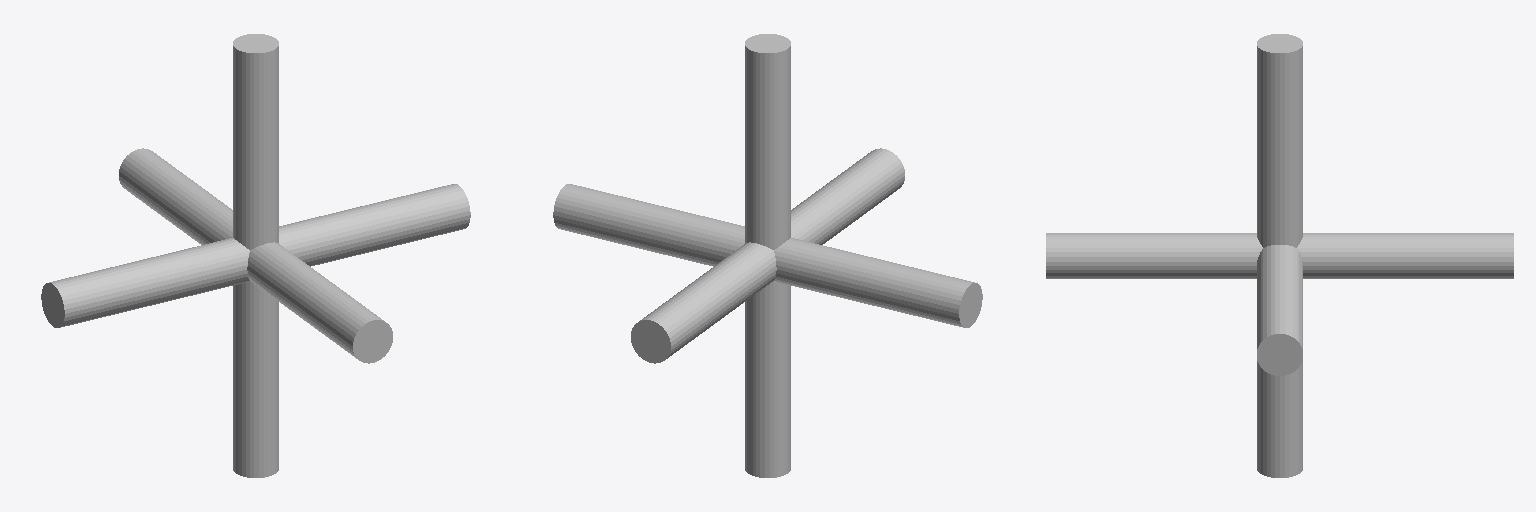
File: axis test.obj
The picture shows the model from 3 angles: view 1: azimuth 30°, elevation 25°; view 2: azimuth 150°, elevation 25°; view 3: azimuth 270°, elevation 25°; orthographic projection.
Visible parts, largest first — view 1: Cylinder.002; view 2: Cylinder.002; view 3: Cylinder.002.
Boxes of the visible parts, <box> form: Cylinder.002: <box>41,34,470,477</box>; Cylinder.002: <box>553,34,982,477</box>; Cylinder.002: <box>1046,34,1513,477</box>.
Size of the model in its own units: 2 by 2 by 2.